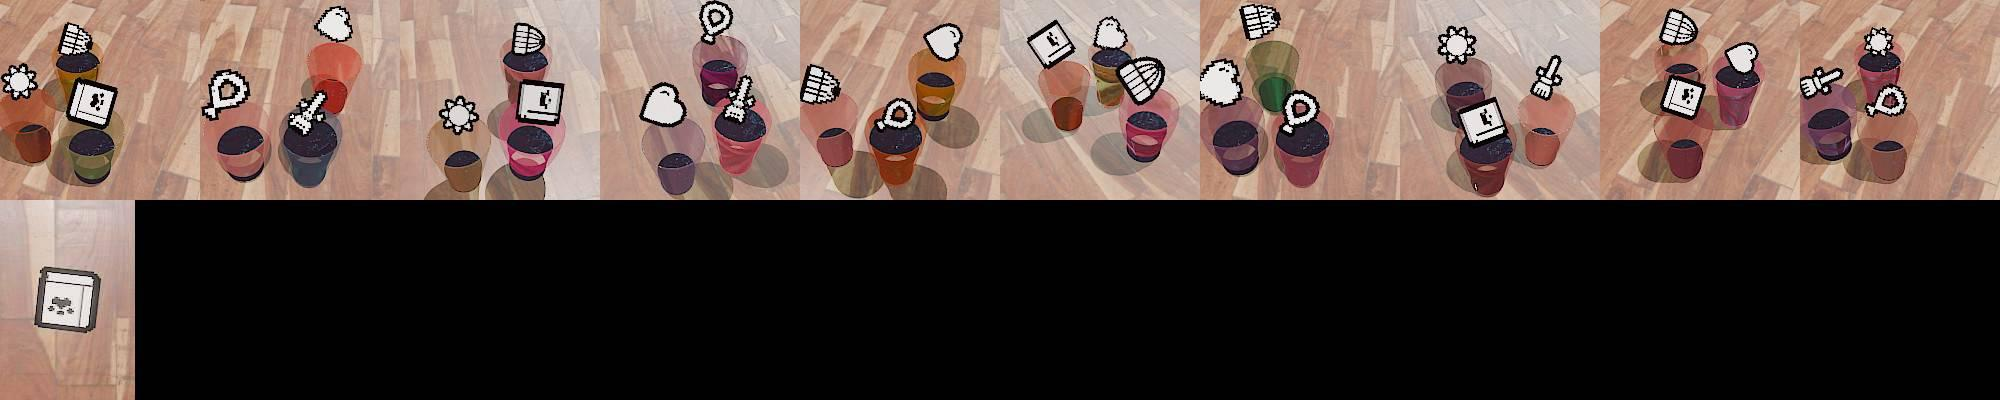icon: (34, 266, 102, 335), (1454, 96, 1511, 149), (64, 76, 119, 129), (202, 66, 253, 121), (1115, 55, 1167, 107), (1026, 19, 1075, 69), (515, 78, 565, 126), (1659, 75, 1708, 120), (639, 82, 686, 126), (1199, 57, 1242, 106), (288, 90, 329, 135), (722, 73, 758, 124), (1529, 52, 1566, 101), (1281, 89, 1321, 132), (437, 94, 480, 135), (800, 64, 842, 103), (696, 0, 733, 43), (1798, 65, 1844, 99), (923, 22, 963, 61), (312, 5, 353, 43), (1240, 3, 1281, 41), (1436, 24, 1478, 60), (1659, 8, 1698, 46), (1091, 14, 1130, 51), (1864, 84, 1907, 117), (1, 64, 40, 99), (878, 96, 917, 130), (59, 22, 93, 59), (510, 22, 546, 56), (1722, 42, 1760, 74), (1862, 27, 1895, 56)
